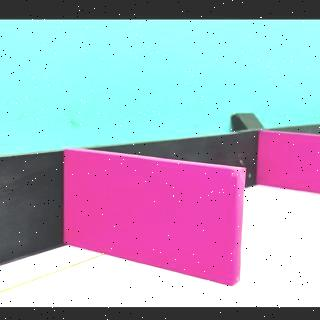xparking: (70, 172, 238, 280), (264, 138, 316, 192)
